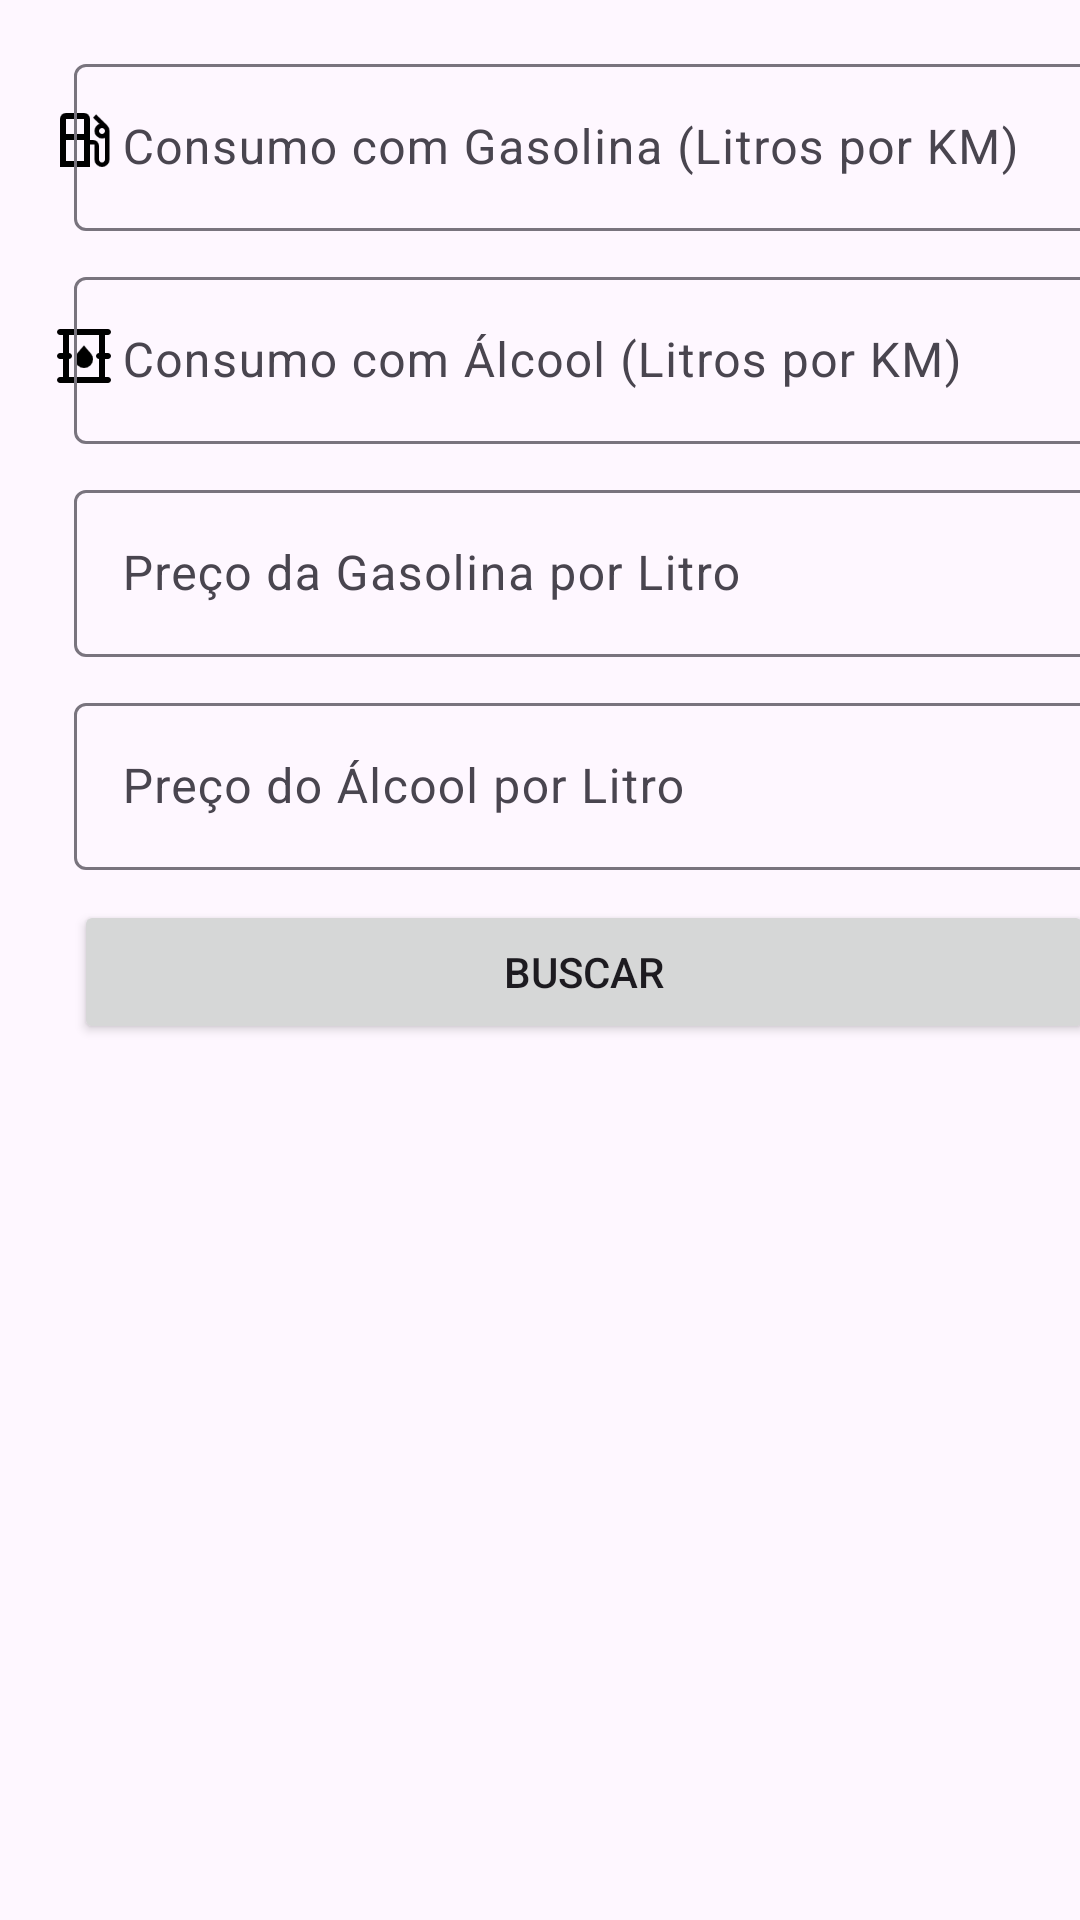

Named icons in this screenshot (1080×1920) and their bounding boxes, (x1, y1, x2, y2):
blackgas: (60, 104, 110, 176)
oil barrel: (57, 320, 111, 392)
